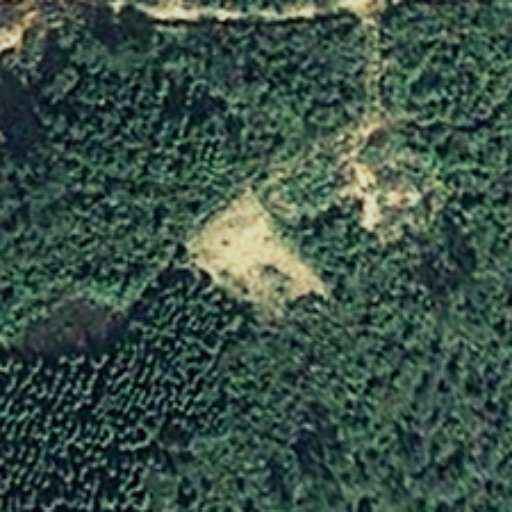landslide: (196, 101, 421, 308)
